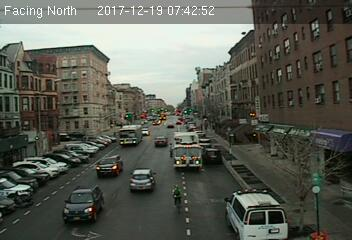bicycke: (170, 183, 184, 218)
bus: (119, 125, 142, 145)
car: (65, 184, 102, 220), (127, 168, 157, 191), (95, 154, 120, 175), (201, 147, 221, 165), (154, 136, 168, 145)
police: (224, 187, 286, 240)
truck: (172, 131, 202, 168)
